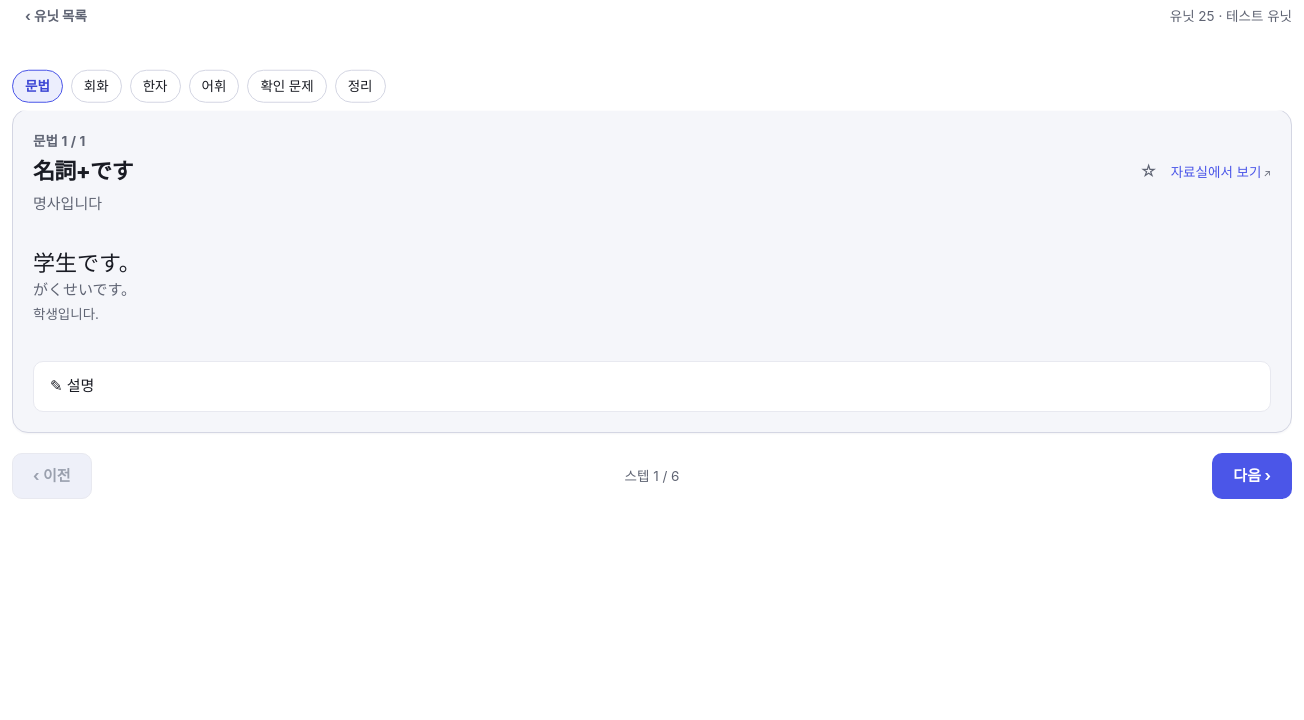
Test case: UnitStudyPage — 완료 분기 (설계/04 §2-3 nextUnitNo·nextCourse) › 마지막 유닛 + 다음 코스 PREPARING → '코스 목록으로' + 준비중 안내
The image size is (1304, 720).
Click the button "정리": click(360, 86) [335,70,386,102]
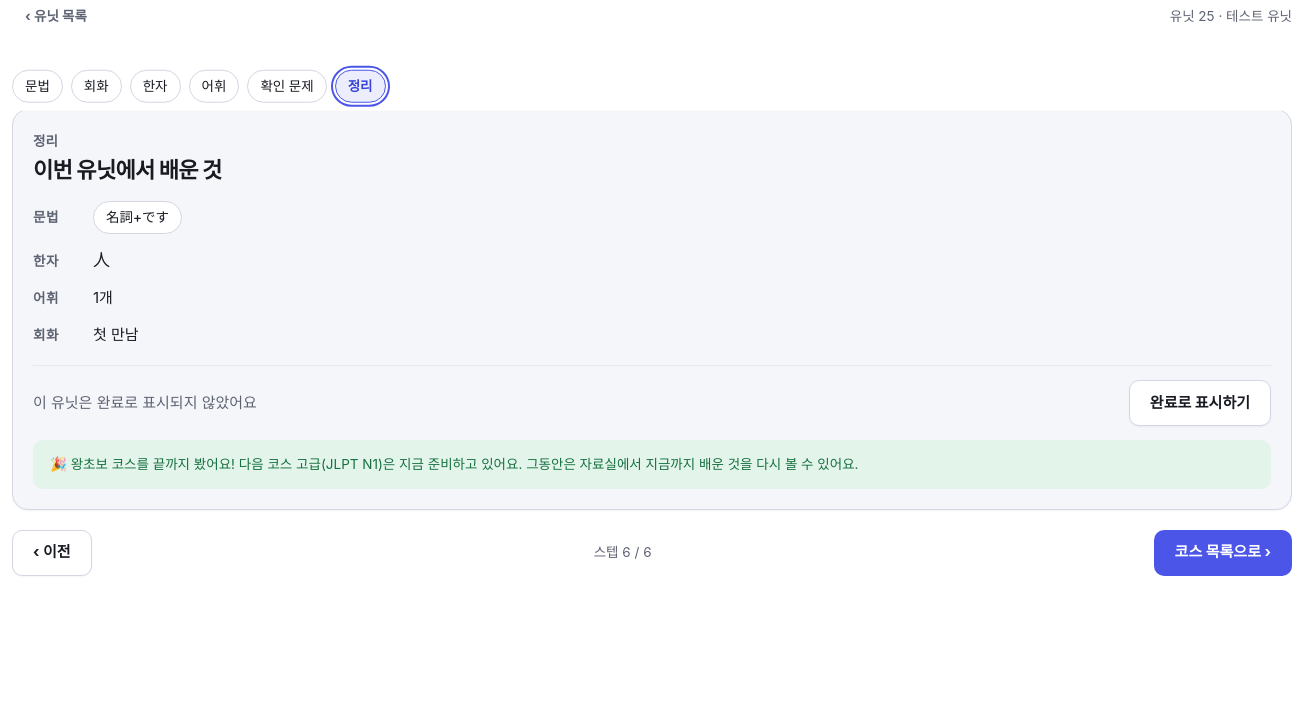
Check: the text "준비하고 있어요" is shown, box [239,456,858,472]
